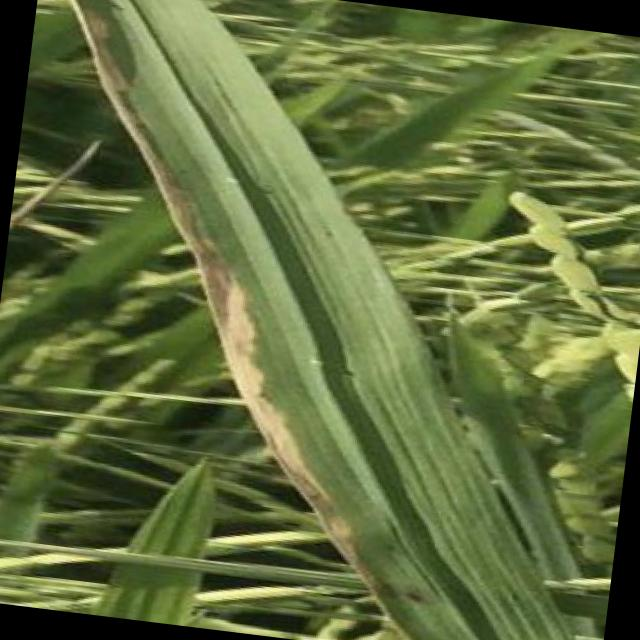Rice_Bacterial_Blight: (112, 48, 470, 583)
